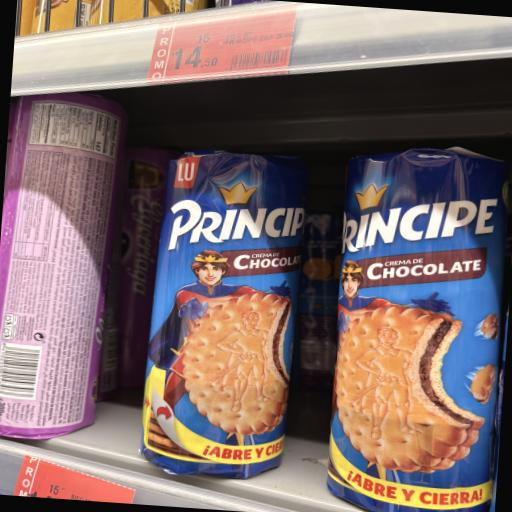prince: (57, 109, 359, 512)
